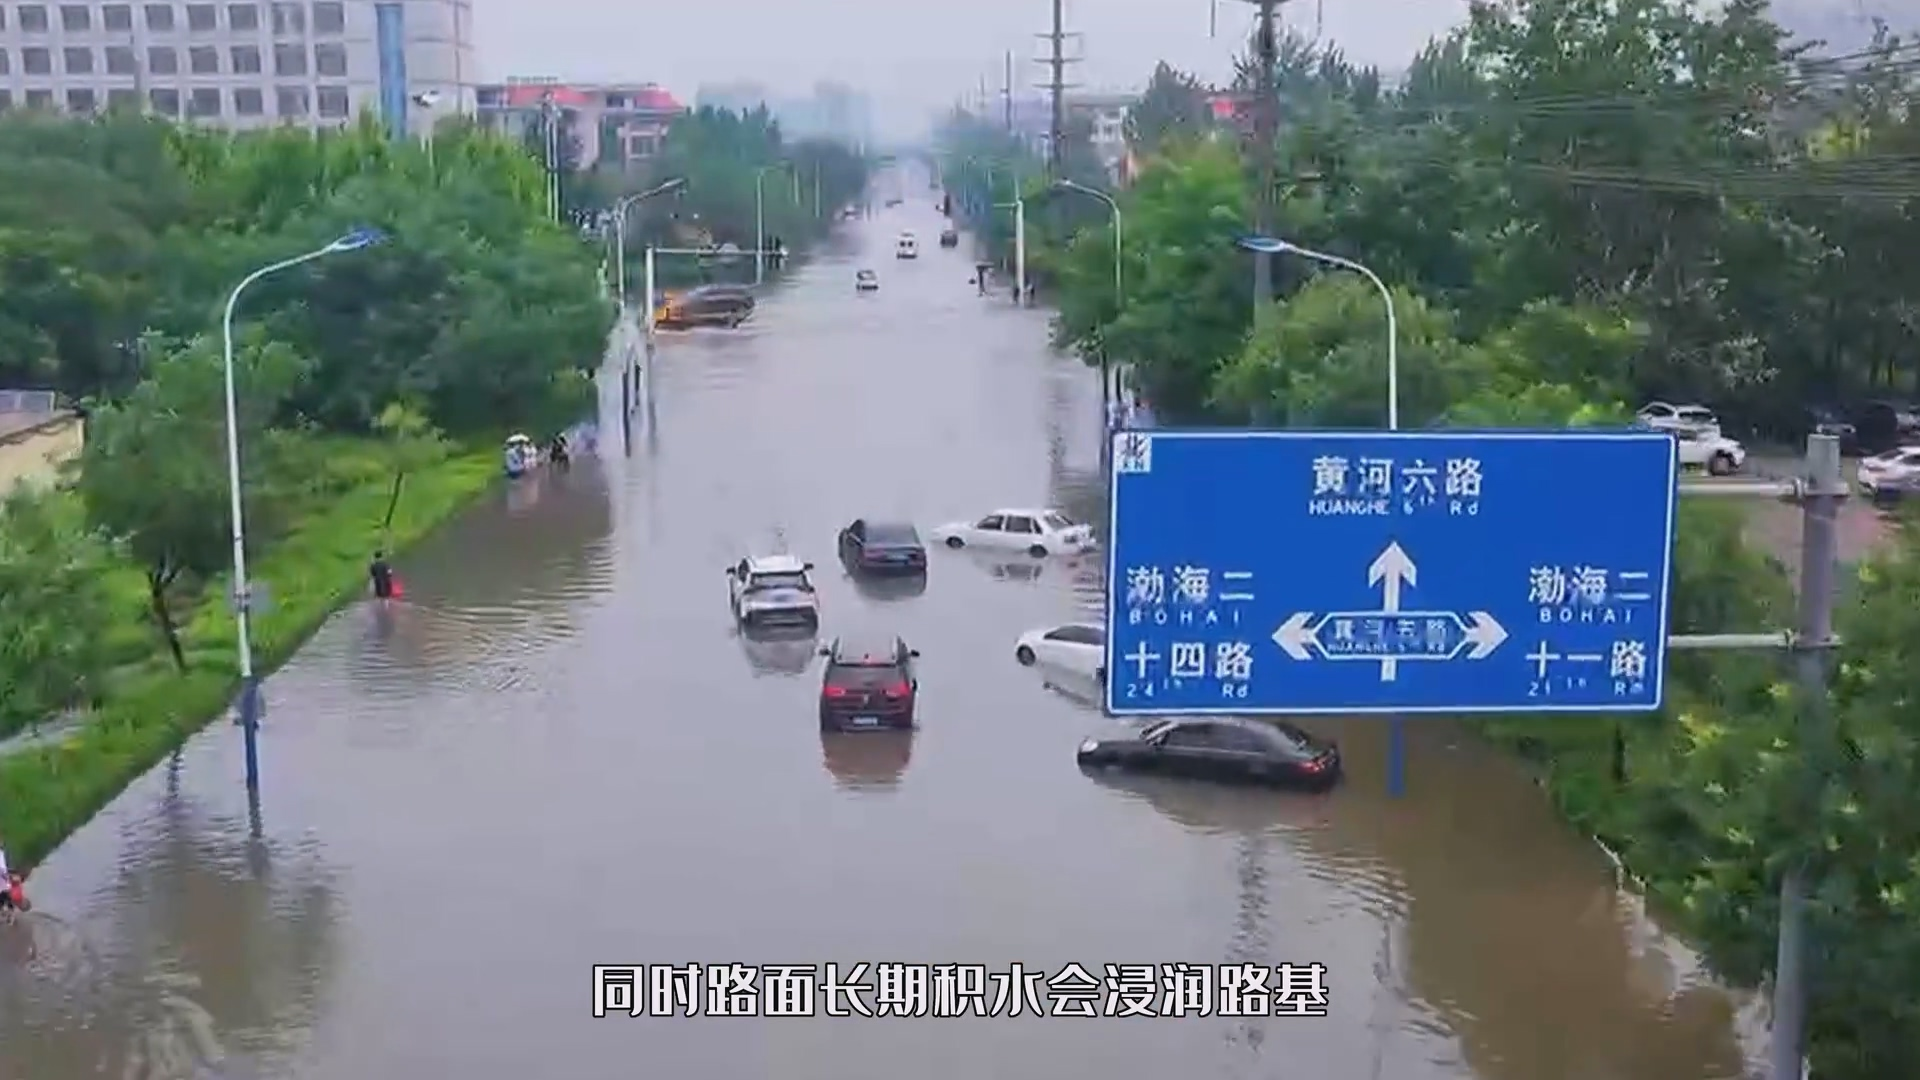puddle: (53, 791, 1652, 1080), (258, 377, 1112, 804)
